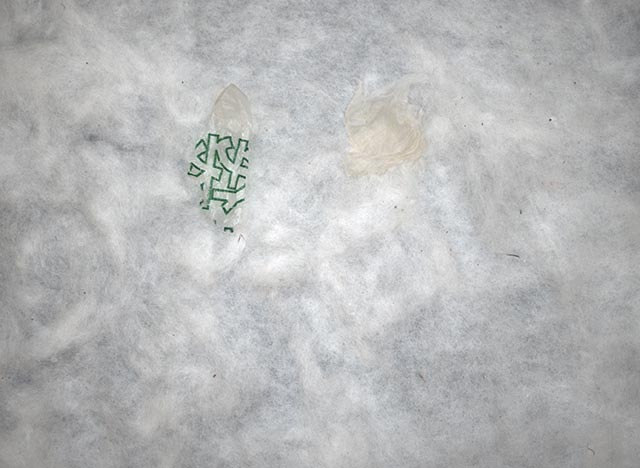plastic film: (183, 82, 257, 243), (340, 71, 433, 179)
